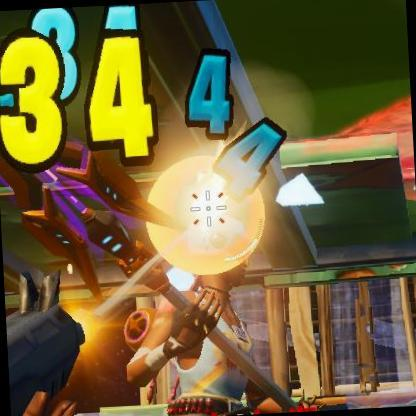person: (188, 250, 252, 414)
